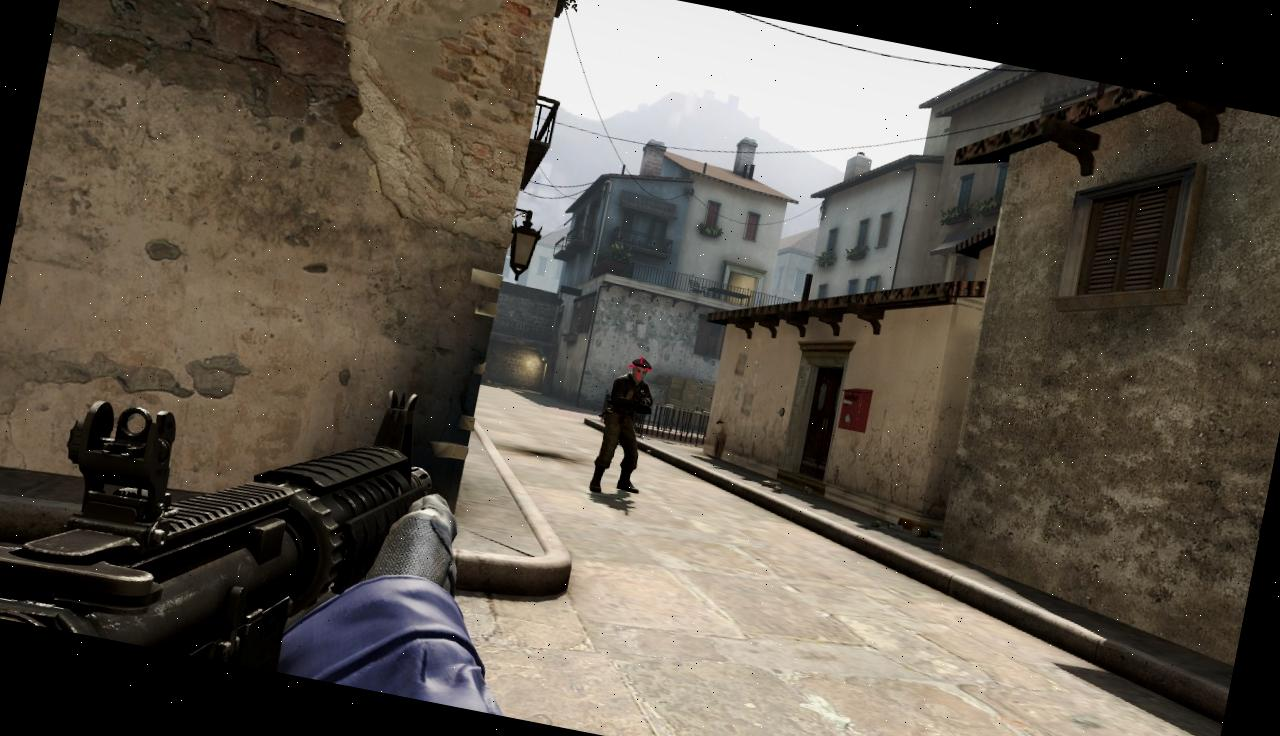rifle: (0, 299, 461, 697)
tt: (590, 353, 658, 500)
tthead: (628, 358, 650, 384)
